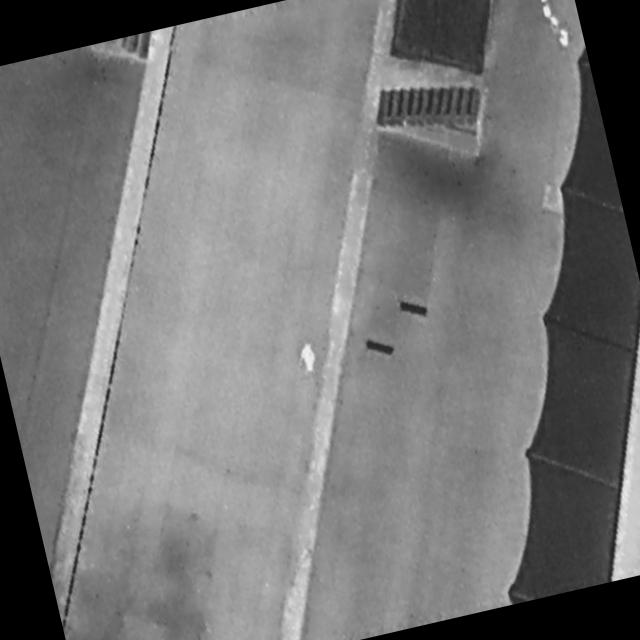person: (295, 338, 322, 377)
